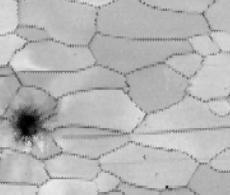good_void: (10, 104, 58, 147), (164, 184, 170, 190), (142, 154, 148, 160)
